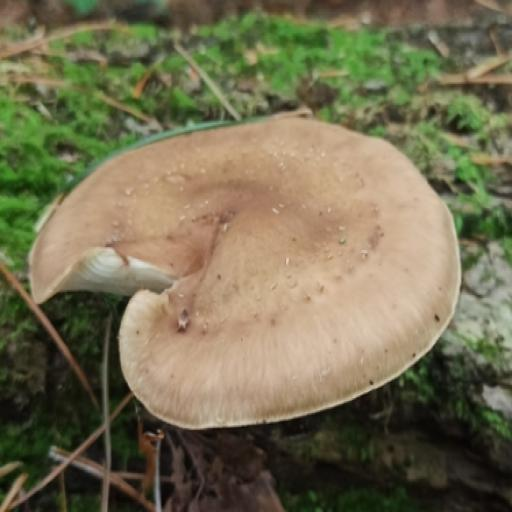Shiitake Mushroom: (6, 77, 480, 456)
